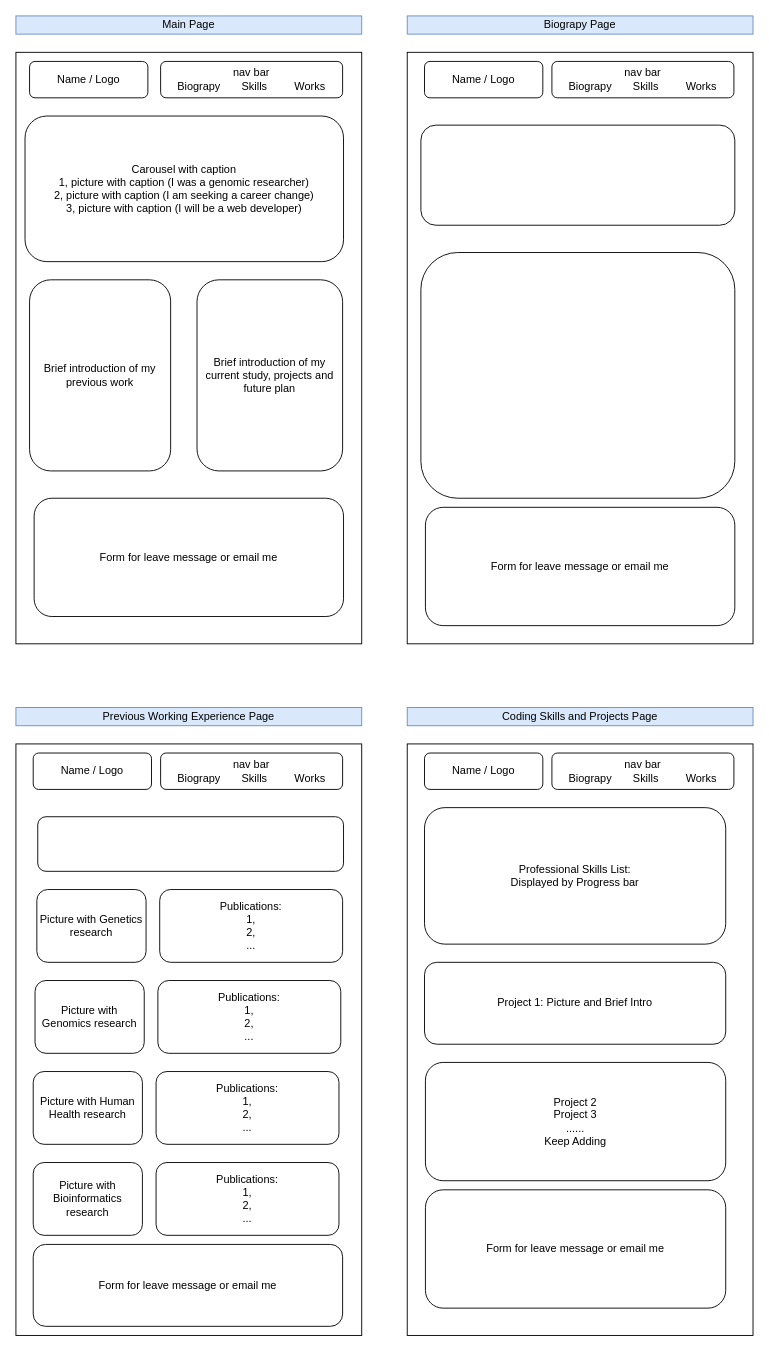
This 769x1351 diagram has some shape labels left out. The shapes that lost their labels are listed below. From the top down, each one's box as (x1, y1, x2, y2) in pixels, then its label:
(420, 124, 735, 225): Picture
(420, 252, 735, 498): Article
(37, 816, 344, 871): Projects Brief Intro
